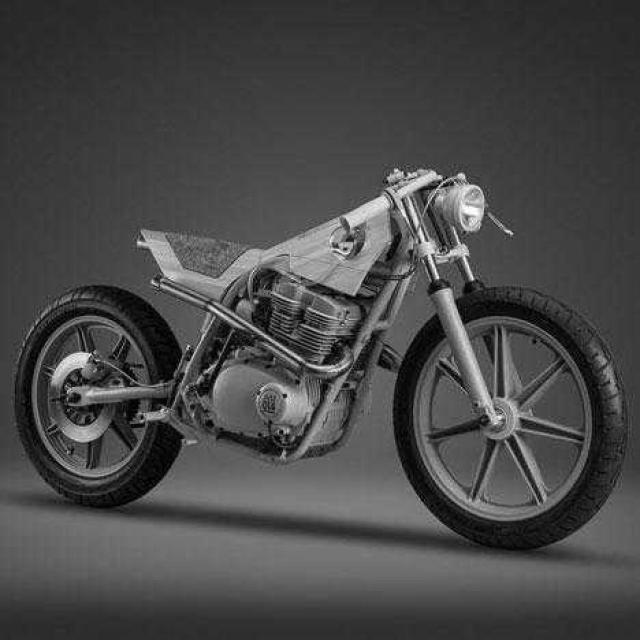Motorcycle: (15, 169, 627, 548)
